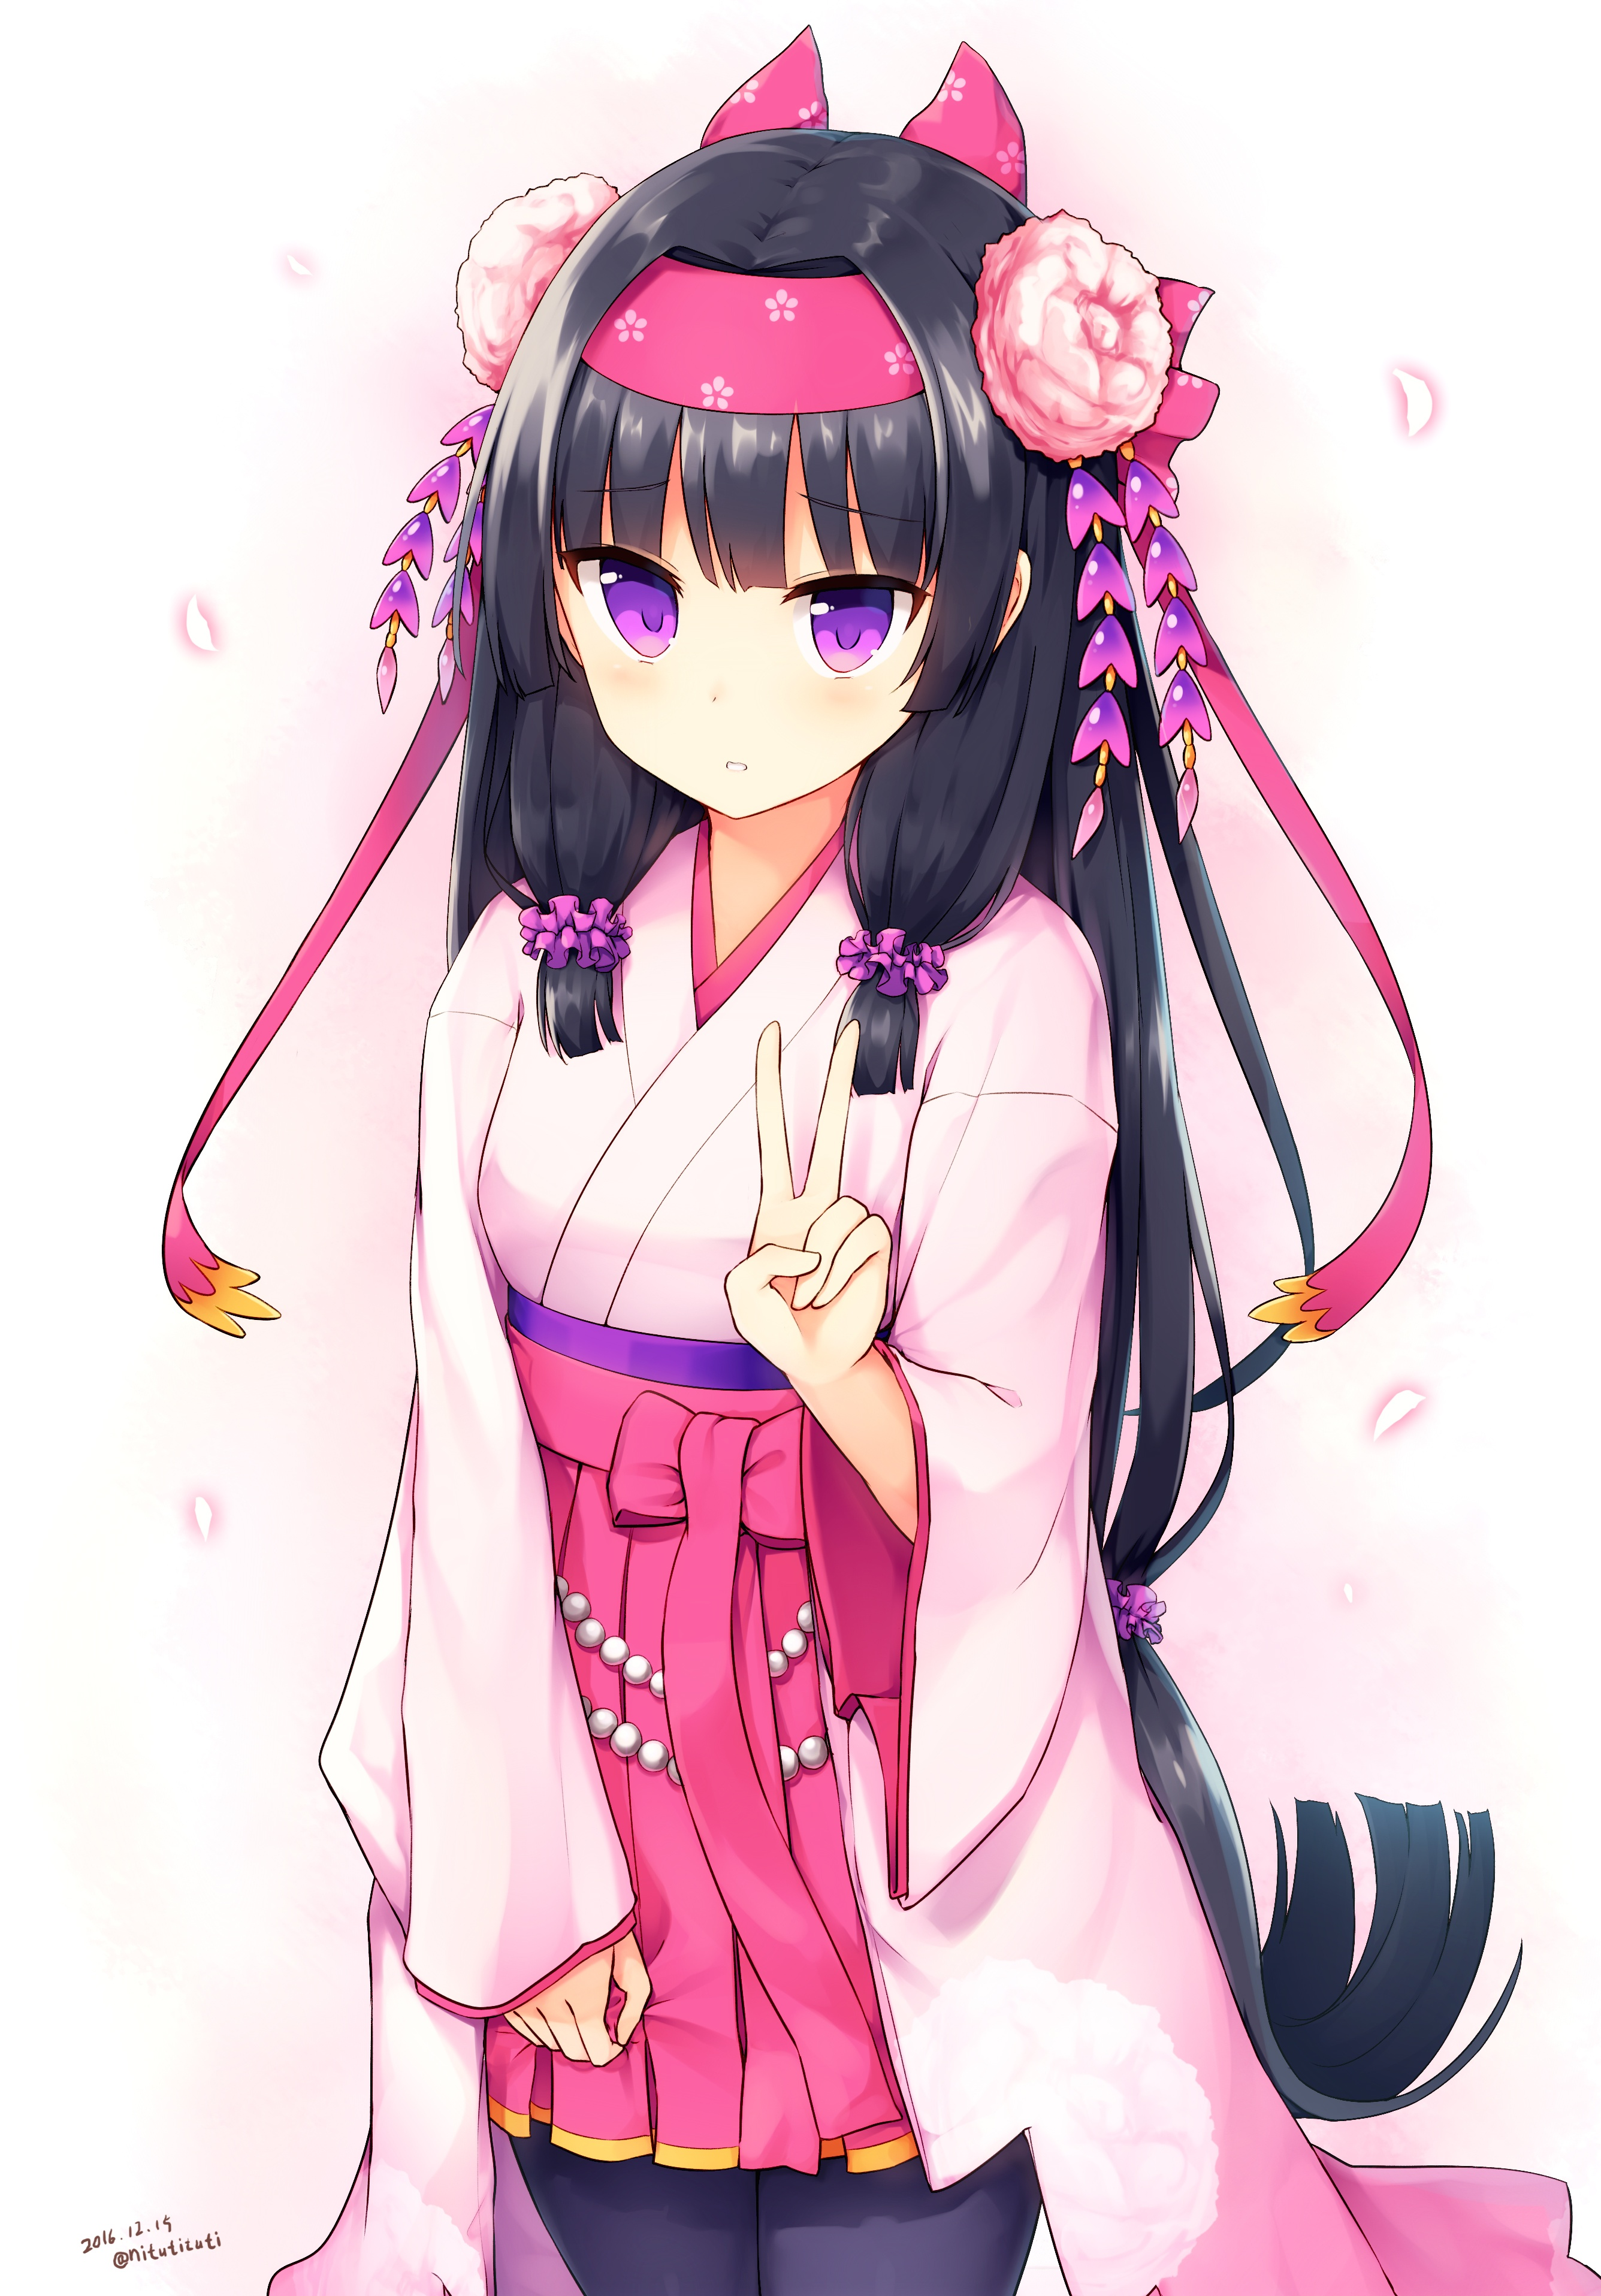纸片人正脸: (464, 130, 1059, 838)
